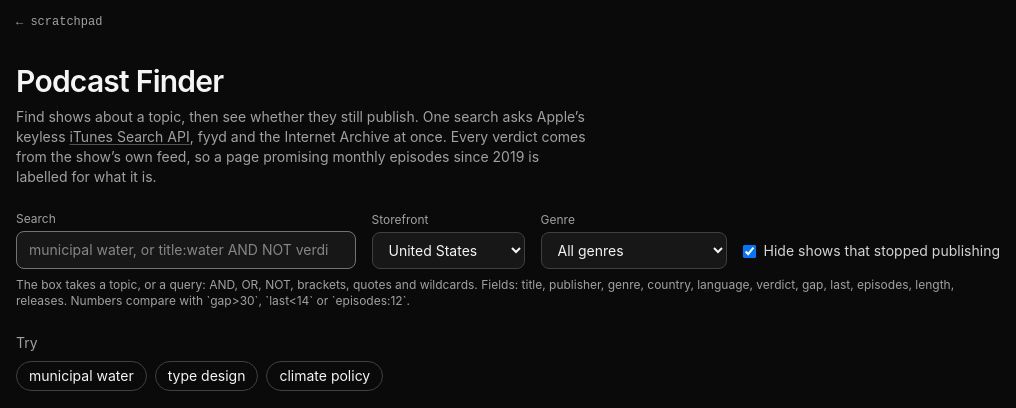
Test case: PodcastFinderPage › says when nothing matched
Type "drains" into the search field labelled "Search" at (186, 250), box 16,231 -> 356,269
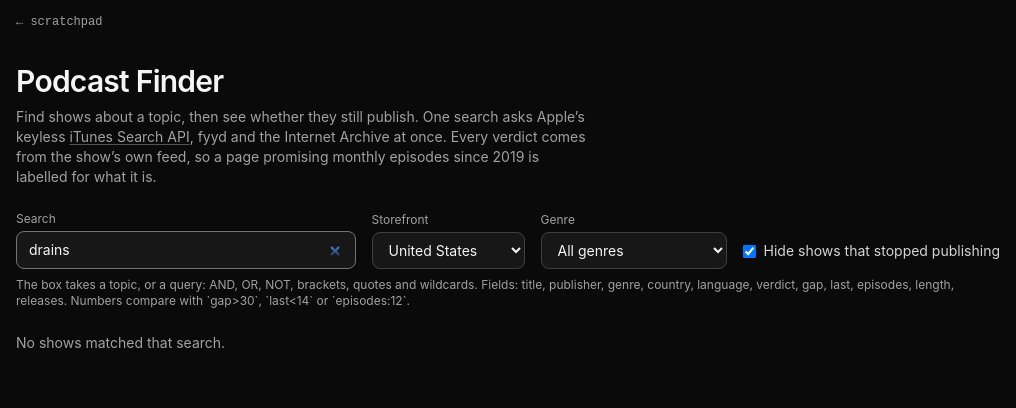
Check: the text "No shows matched that search." is shown, box 16,334 -> 225,351
